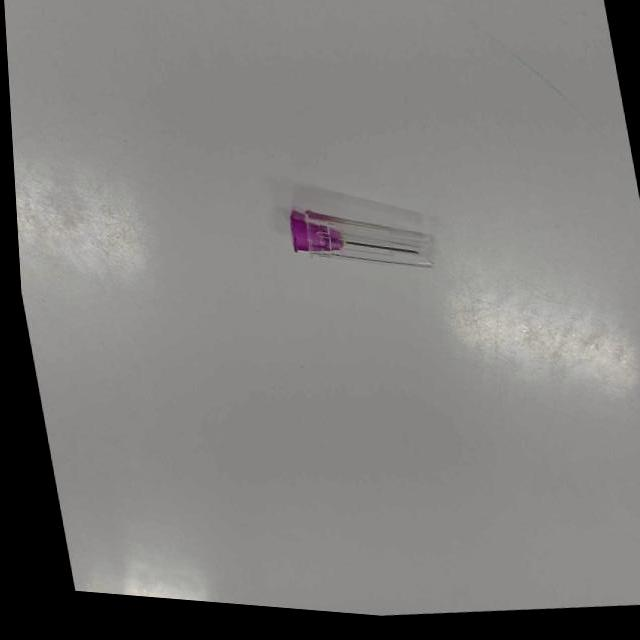General: (288, 208, 345, 255)
Pathological: (6, 1, 640, 619)
Sharps: (289, 206, 438, 268)
